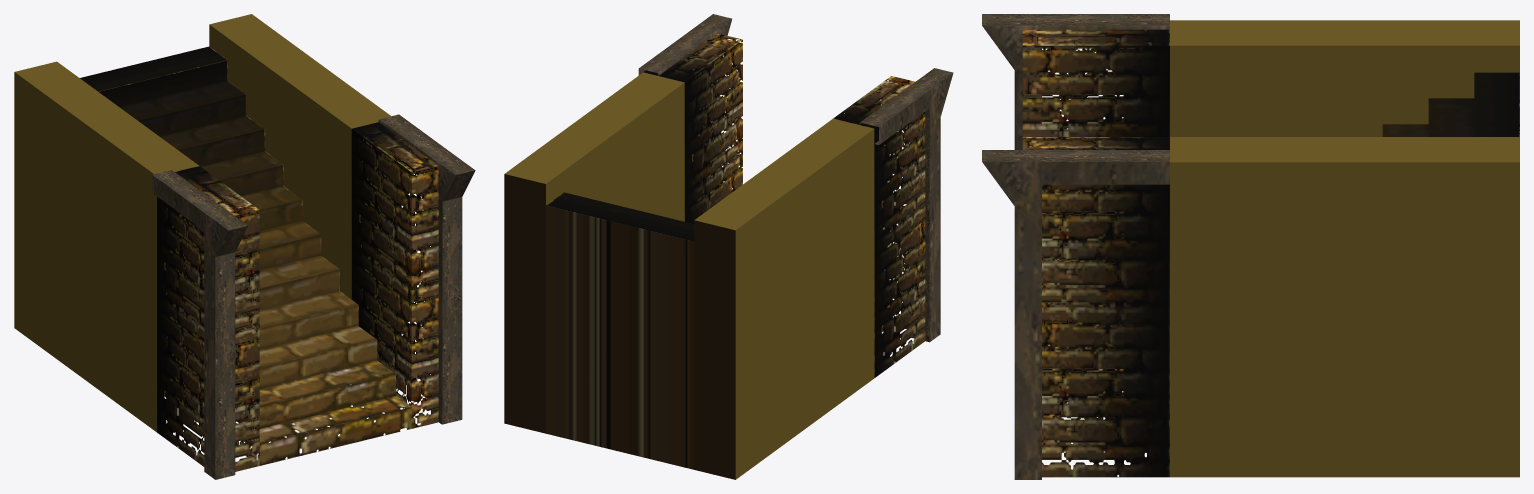
Rendered from stoneStairsB.fbx.
The picture shows the model from 3 angles, left to right: view 1: azimuth 30°, elevation 25°; view 2: azimuth 150°, elevation 25°; view 3: azimuth 270°, elevation 25°; orthographic projection. The views are drawn at different scales.
Visible parts, largest first — view 1: stoneStairsB; view 2: stoneStairsB; view 3: stoneStairsB.
Boxes of the visible parts, box(x1,y1,x2,y2) form: stoneStairsB: box(14, 14, 475, 479); stoneStairsB: box(504, 14, 953, 479); stoneStairsB: box(982, 14, 1519, 479).
Size of the model in its own units: 300 by 301 by 461.
